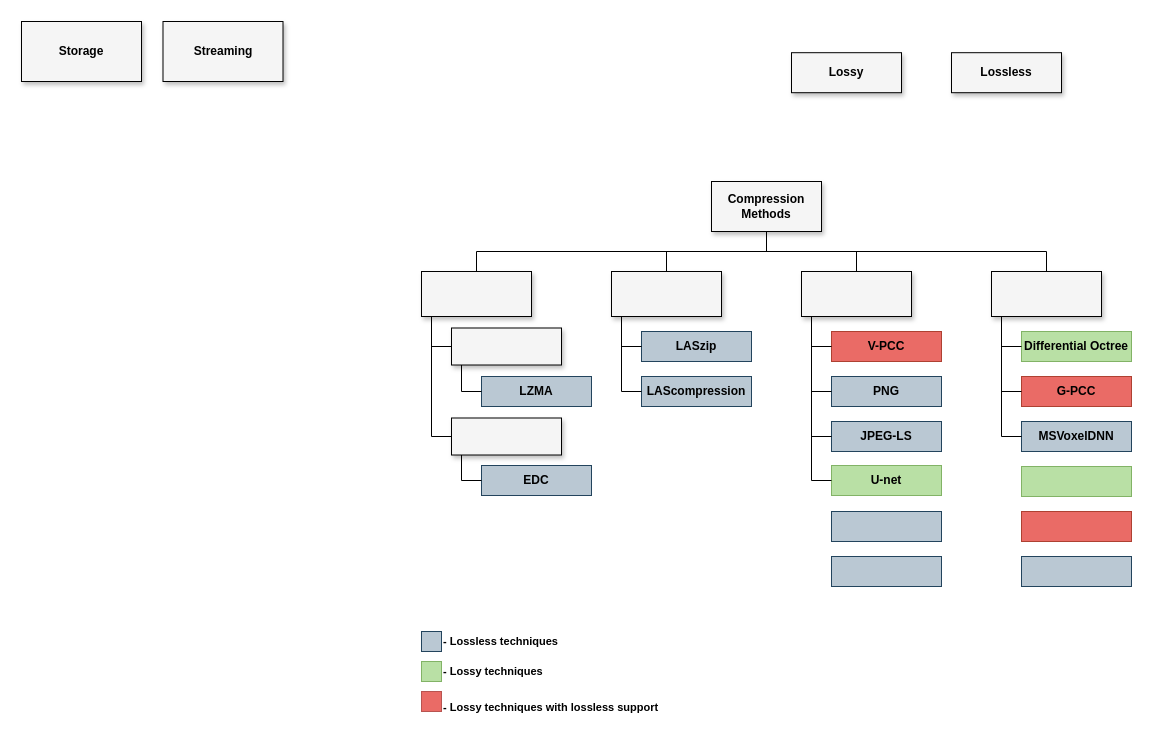
Image size: 1149x748. Some labels were removed from this diagram. Here are the shapes that lost their labels. From the top down, the centre of each, then its label:
the point at 477,295: Low-level compression
the point at 667,295: LAS Format
the point at 857,295: 3D to 2D Projection-based
the point at 1047,295: 3D Space decompositon
the point at 507,347: Dictionary-based
the point at 507,437: Delta Encoding
